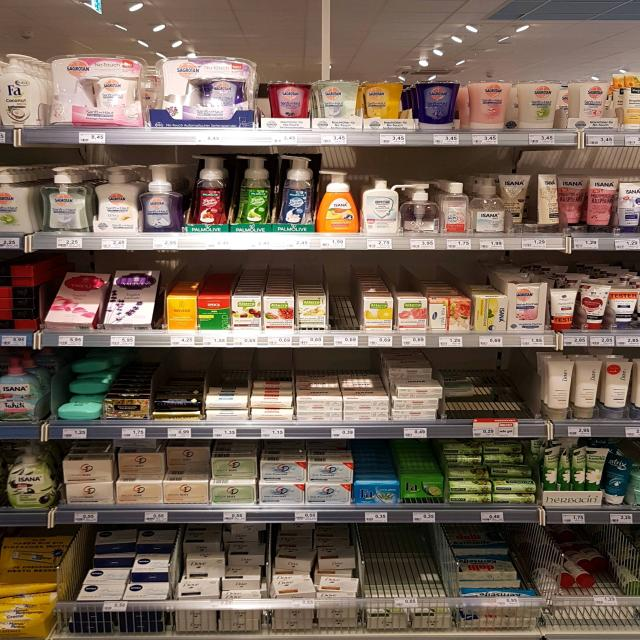unorganised: (271, 531, 360, 596), (180, 543, 268, 595), (542, 446, 607, 492), (97, 528, 168, 560), (605, 449, 636, 509), (499, 172, 532, 223), (533, 169, 562, 227), (578, 278, 611, 326), (430, 296, 471, 334), (117, 452, 166, 481), (473, 292, 507, 333), (166, 446, 209, 478), (561, 173, 587, 224), (209, 458, 256, 484)
